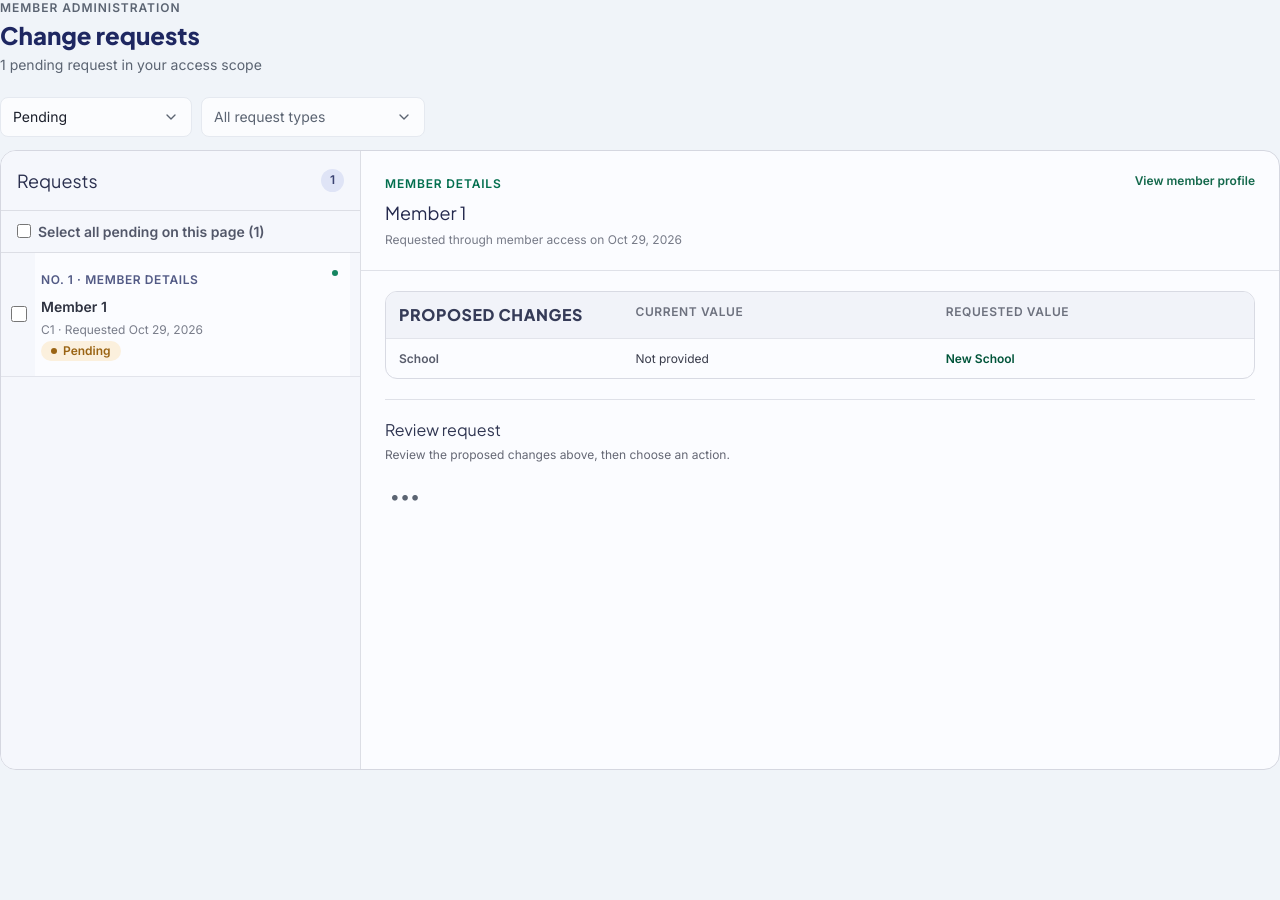
it: reviews a change request from its menu, retains notes on failure and reports success
This screenshot has width=1280, height=900.
Click the button named "Actions for request 42" at (405, 497), box [385, 477, 425, 517]
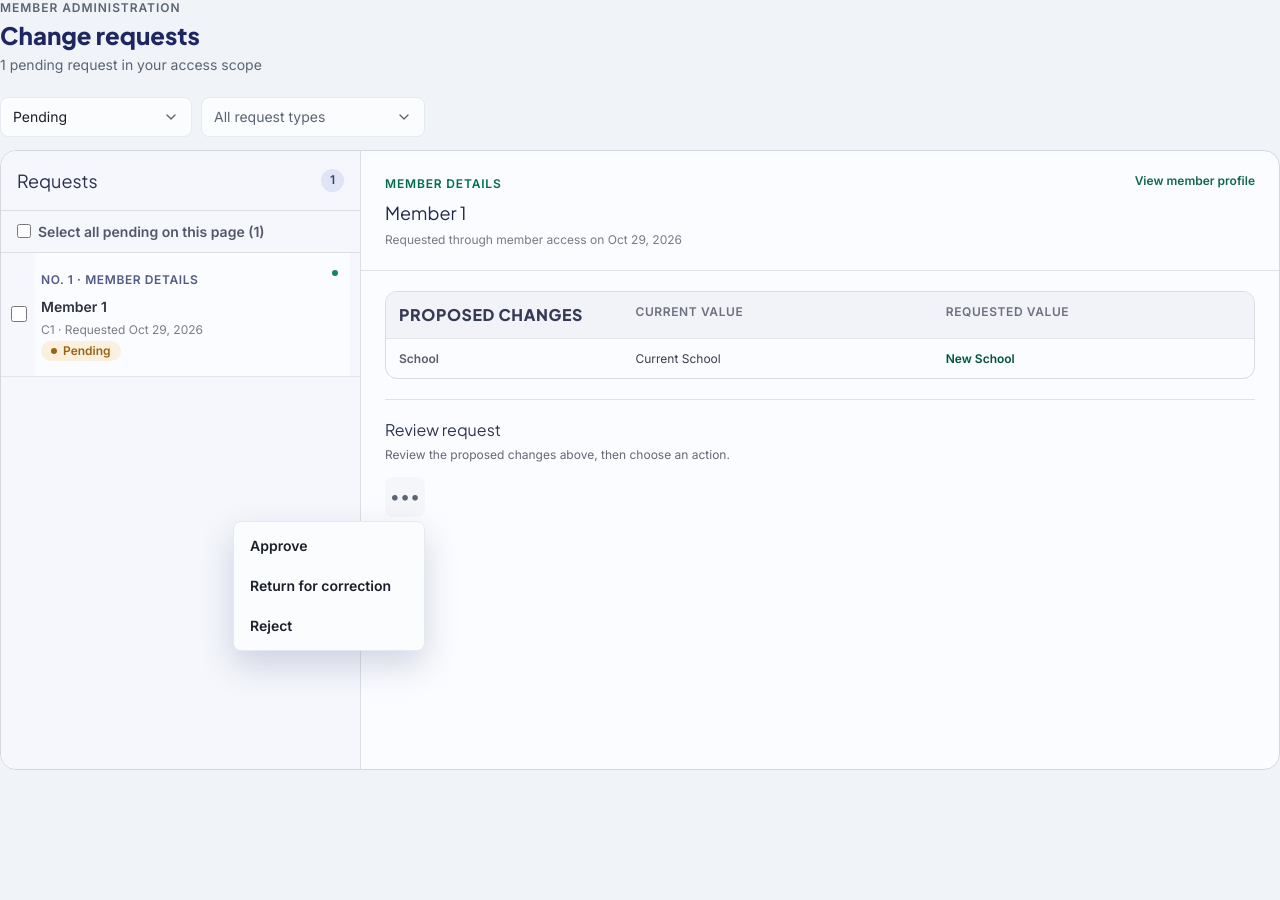
Click the menu item "Return for correction" at (329, 586), box [238, 566, 420, 606]
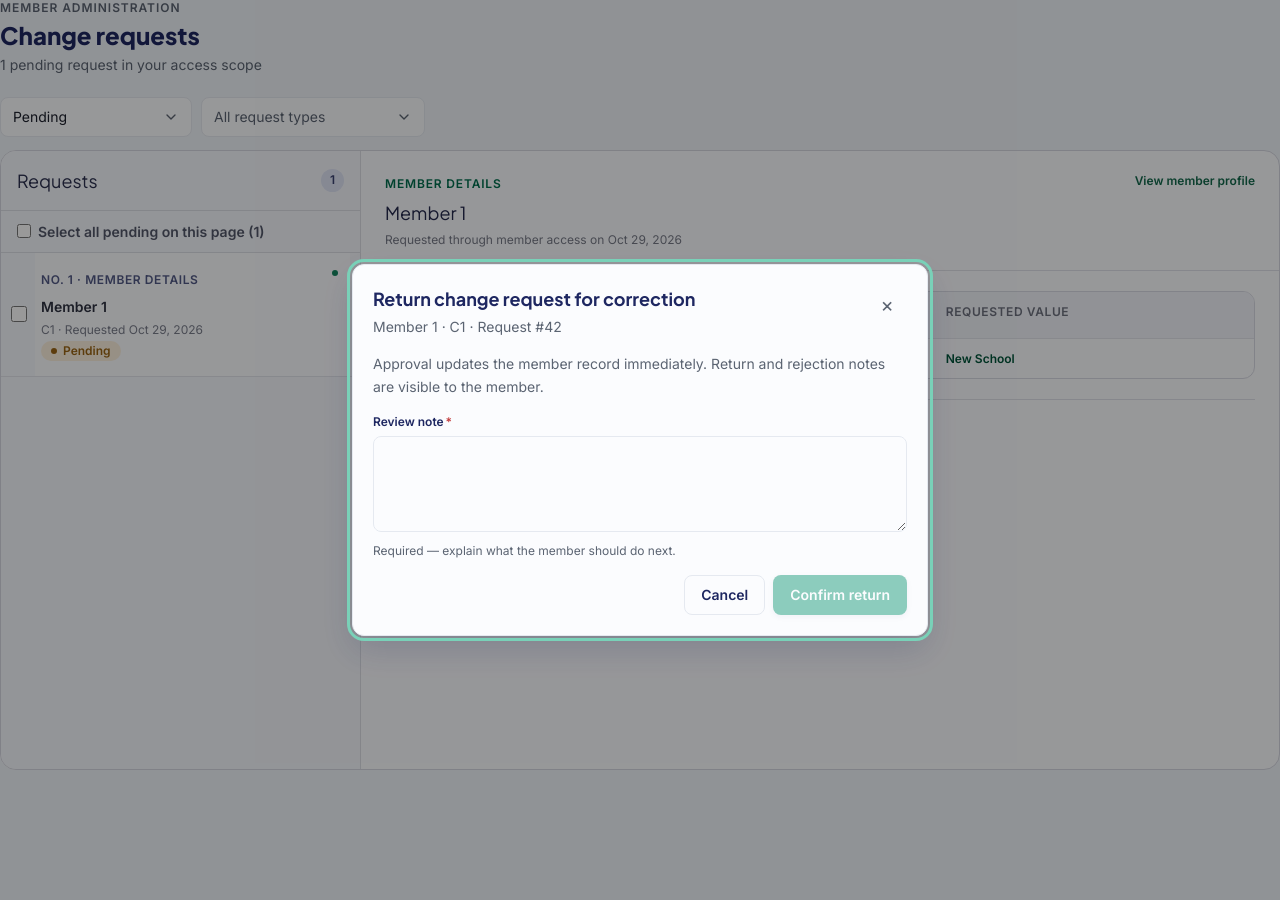
Expected: the button "Confirm return" is disabled, [773, 575, 907, 615]
Type "Confirm the school" into the text box labelled "Review note*" at (640, 484), box [373, 436, 907, 532]
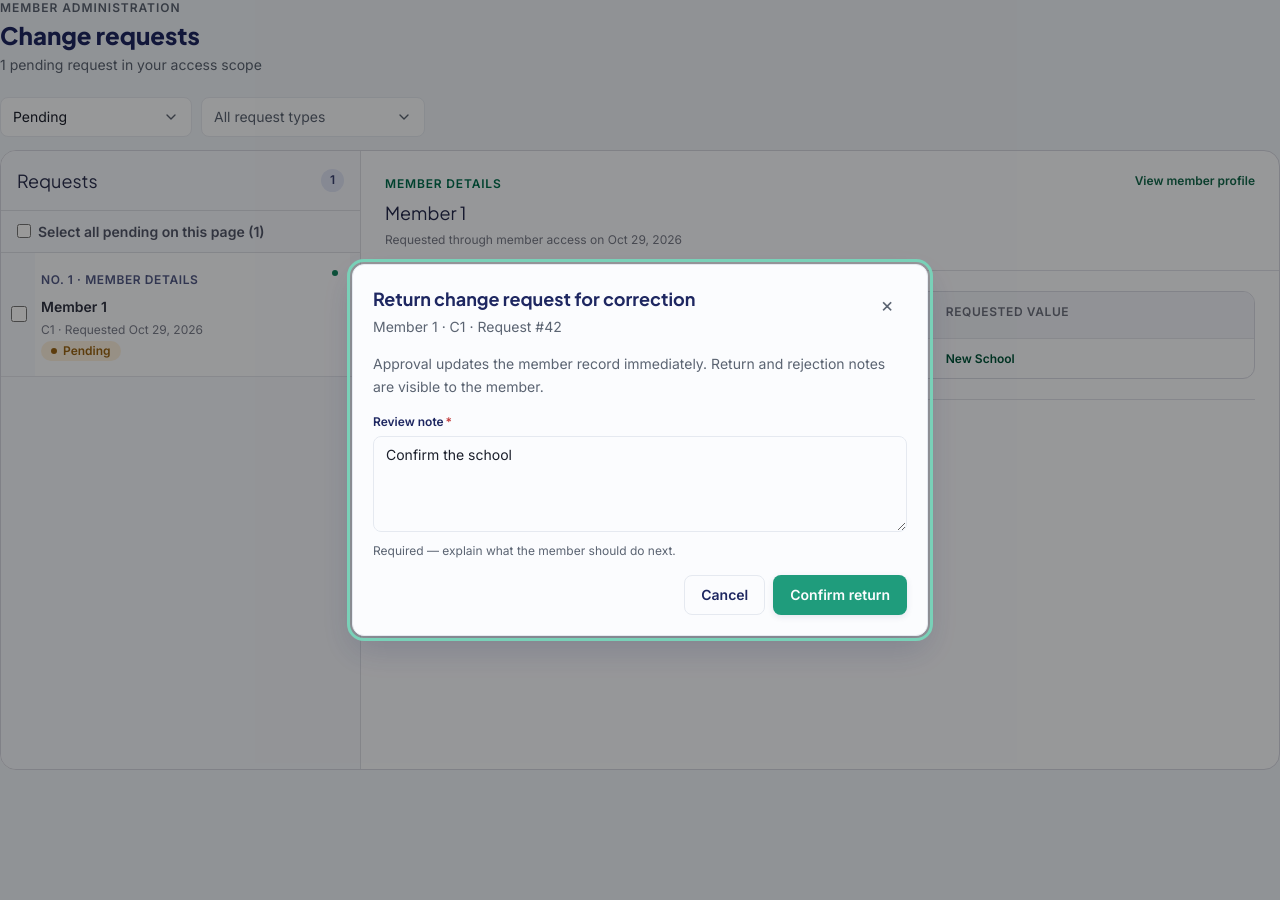
Click the button "Confirm return" at (840, 595), box [773, 575, 907, 615]
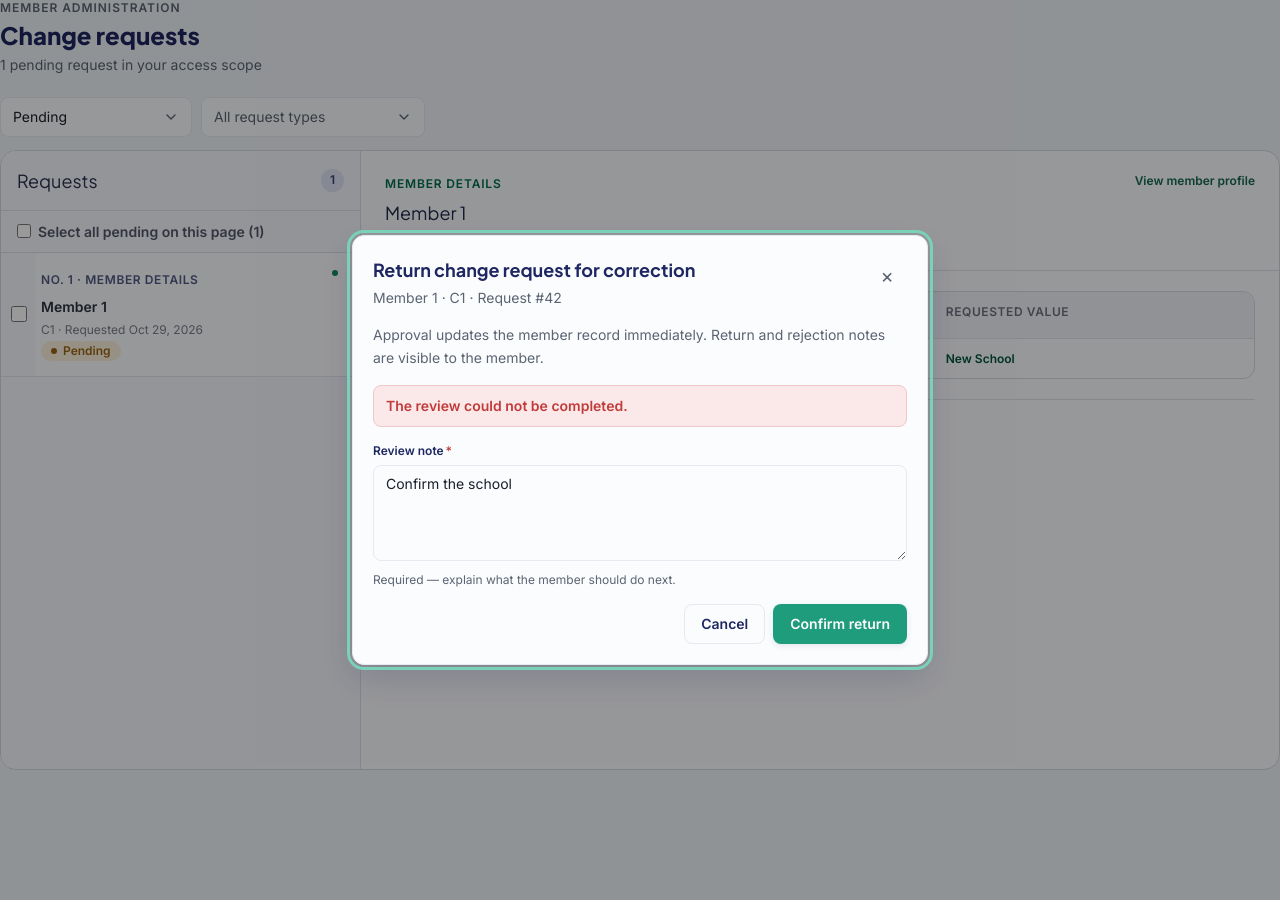
Expected: the message "The review could not be completed." is shown, [373, 385, 907, 427]
Click the button "Confirm return" at (840, 624), box [773, 604, 907, 644]
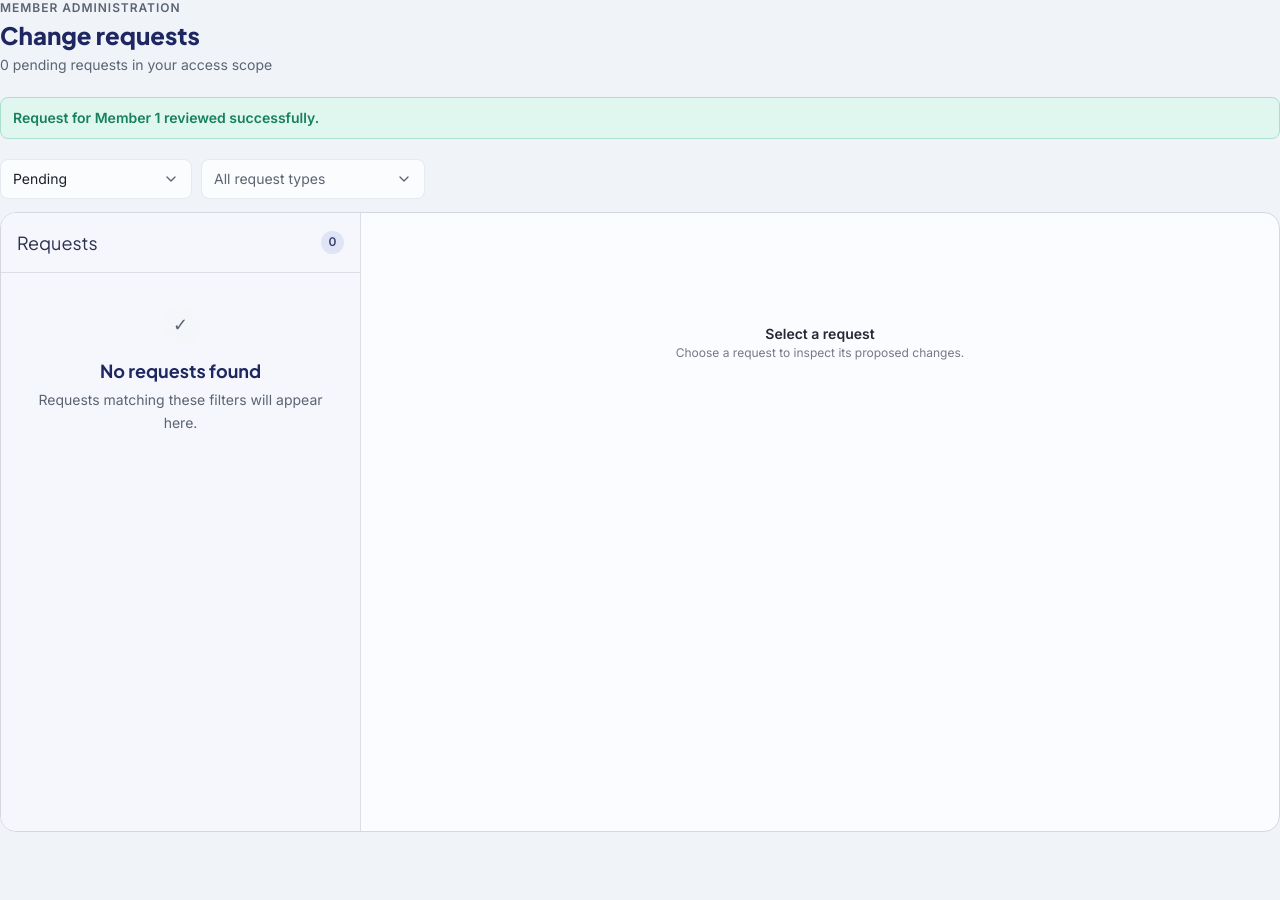
Expected: the text "Request for Member 1 reviewed successfully." is shown, [0, 97, 1279, 139]
Expected: the dialog is gone
